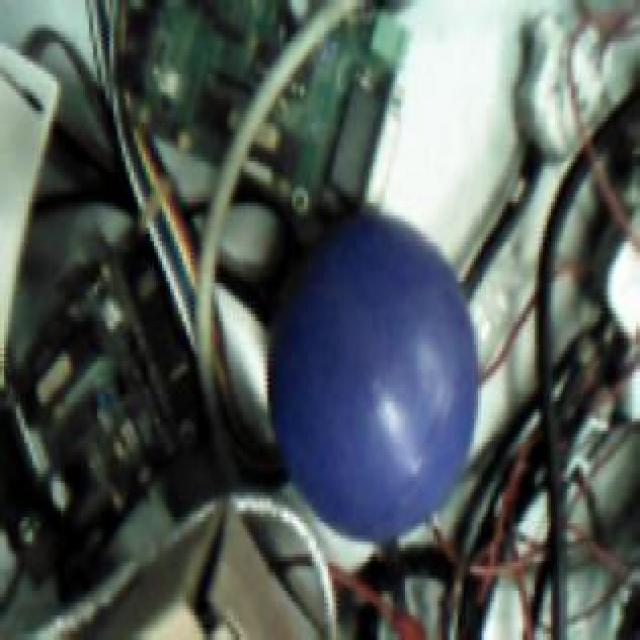BallPurple: (270, 208, 476, 536)
